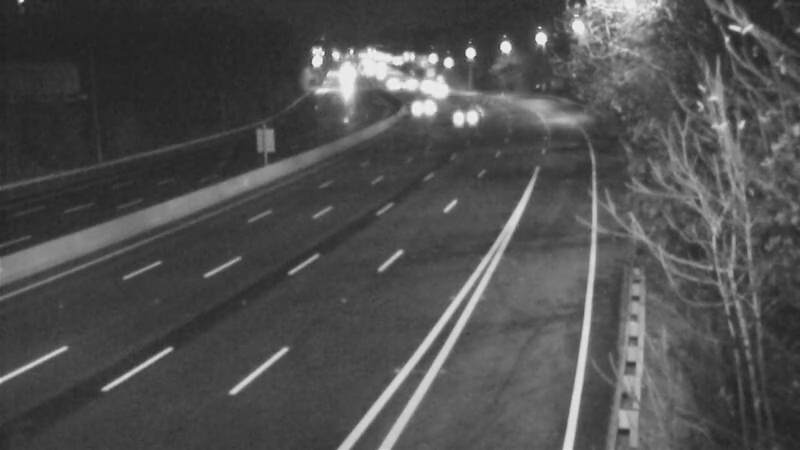vehicle: (390, 84, 440, 134), (440, 86, 490, 136)
